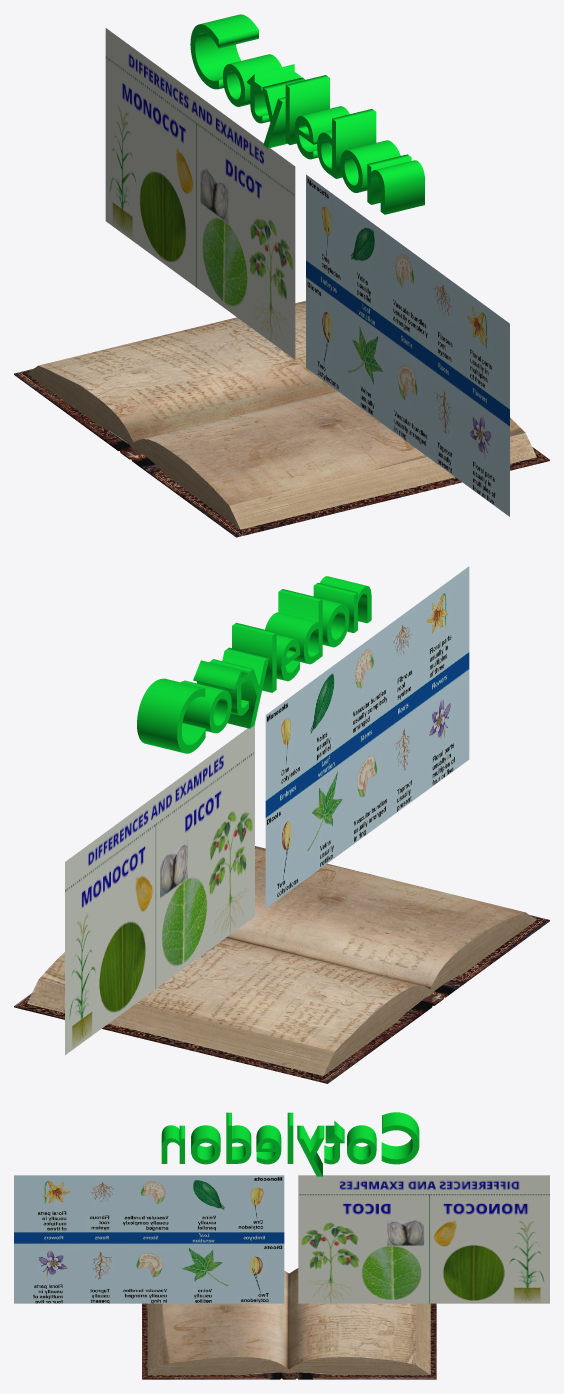
The model's file is cot.glb.
3 renders of one model, top to bottom at view 1: azimuth 30°, elevation 25°; view 2: azimuth 150°, elevation 25°; view 3: azimuth 270°, elevation 25°, orthographic. The views are drawn at different scales.
Parts seen in each view (by area): view 1: polySurface23, monocot_vs_dicot_inner_info, monocot_vs_dicot_inner_info_2, Text, polySurface21; view 2: polySurface23, monocot_vs_dicot_inner_info, monocot_vs_dicot_inner_info_2, Text, polySurface21; view 3: monocot_vs_dicot_inner_info, monocot_vs_dicot_inner_info_2, polySurface23, Text, polySurface21.
Part boxes in pixels (box(x1,y1,x2,y2)): polySurface23: box(27, 300, 536, 529); monocot_vs_dicot_inner_info: box(306, 174, 509, 516); monocot_vs_dicot_inner_info_2: box(105, 28, 295, 359); Text: box(190, 14, 424, 214); polySurface21: box(14, 369, 549, 537); polySurface23: box(27, 846, 536, 1075); monocot_vs_dicot_inner_info: box(265, 566, 469, 908); monocot_vs_dicot_inner_info_2: box(65, 724, 254, 1055); Text: box(137, 576, 371, 753); polySurface21: box(14, 915, 549, 1083); monocot_vs_dicot_inner_info: box(14, 1175, 284, 1303); monocot_vs_dicot_inner_info_2: box(298, 1175, 549, 1303); polySurface23: box(147, 1268, 430, 1375); Text: box(161, 1112, 419, 1176); polySurface21: box(142, 1303, 436, 1379).
Bounding box in the file's own units: 2.34 × 2.35 × 5.22.
8 materials, 5 textured.
